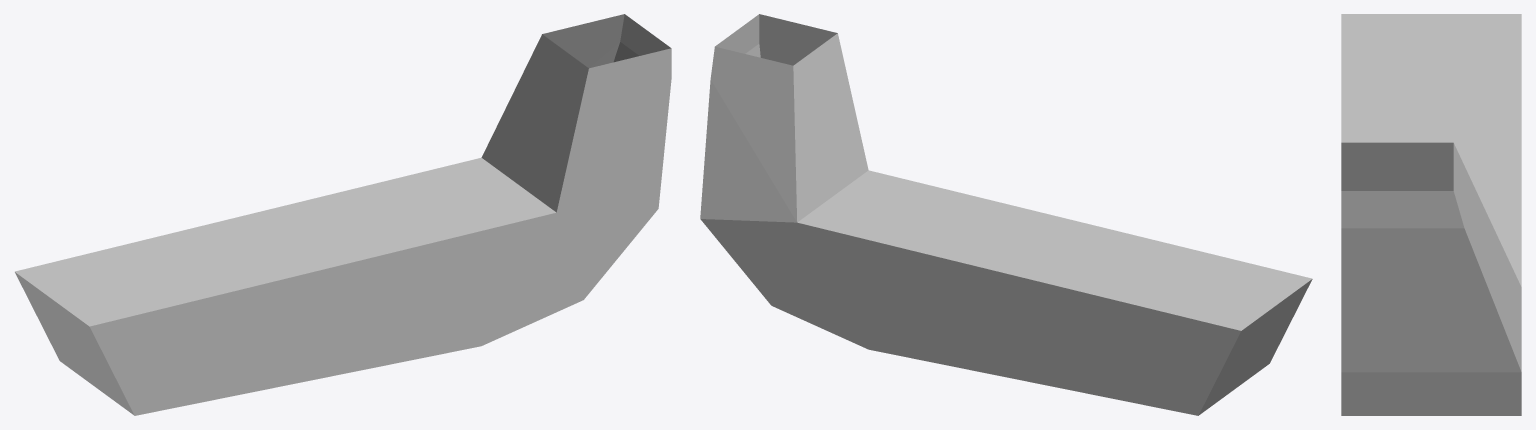
File: Door_Handle_1.obj
3 views of the same model, side by side, from view 1: azimuth 30°, elevation 25°; view 2: azimuth 150°, elevation 25°; view 3: azimuth 270°, elevation 25° (orthographic). The views are drawn at different scales.
Visible parts, largest first — view 1: Door_Handle_1; view 2: Door_Handle_1; view 3: Door_Handle_1.
Part boxes in pixels (box(x1,y1,x2,y2)): Door_Handle_1: box(15, 14, 671, 415); Door_Handle_1: box(700, 14, 1312, 415); Door_Handle_1: box(1341, 14, 1521, 415).
Bounding box in the file's own units: 0.2209 × 0.0913 × 0.0494.
